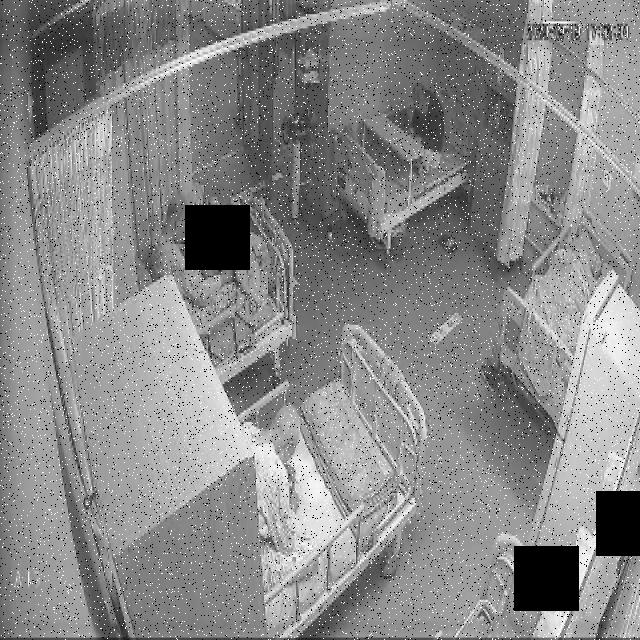bed: (253, 324, 428, 640), (494, 206, 636, 430), (170, 196, 295, 387), (332, 84, 473, 239)
patient: (150, 192, 278, 333), (245, 403, 315, 591), (406, 84, 446, 176)
sit: (152, 192, 278, 334), (247, 403, 314, 586), (404, 86, 444, 173)
